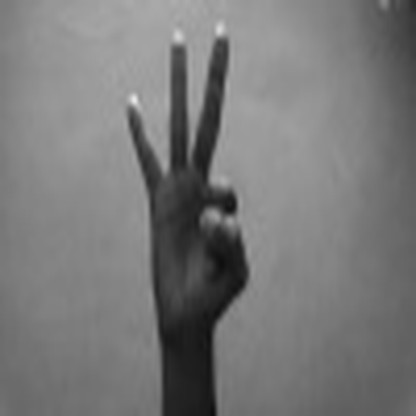f: (117, 21, 264, 324)
